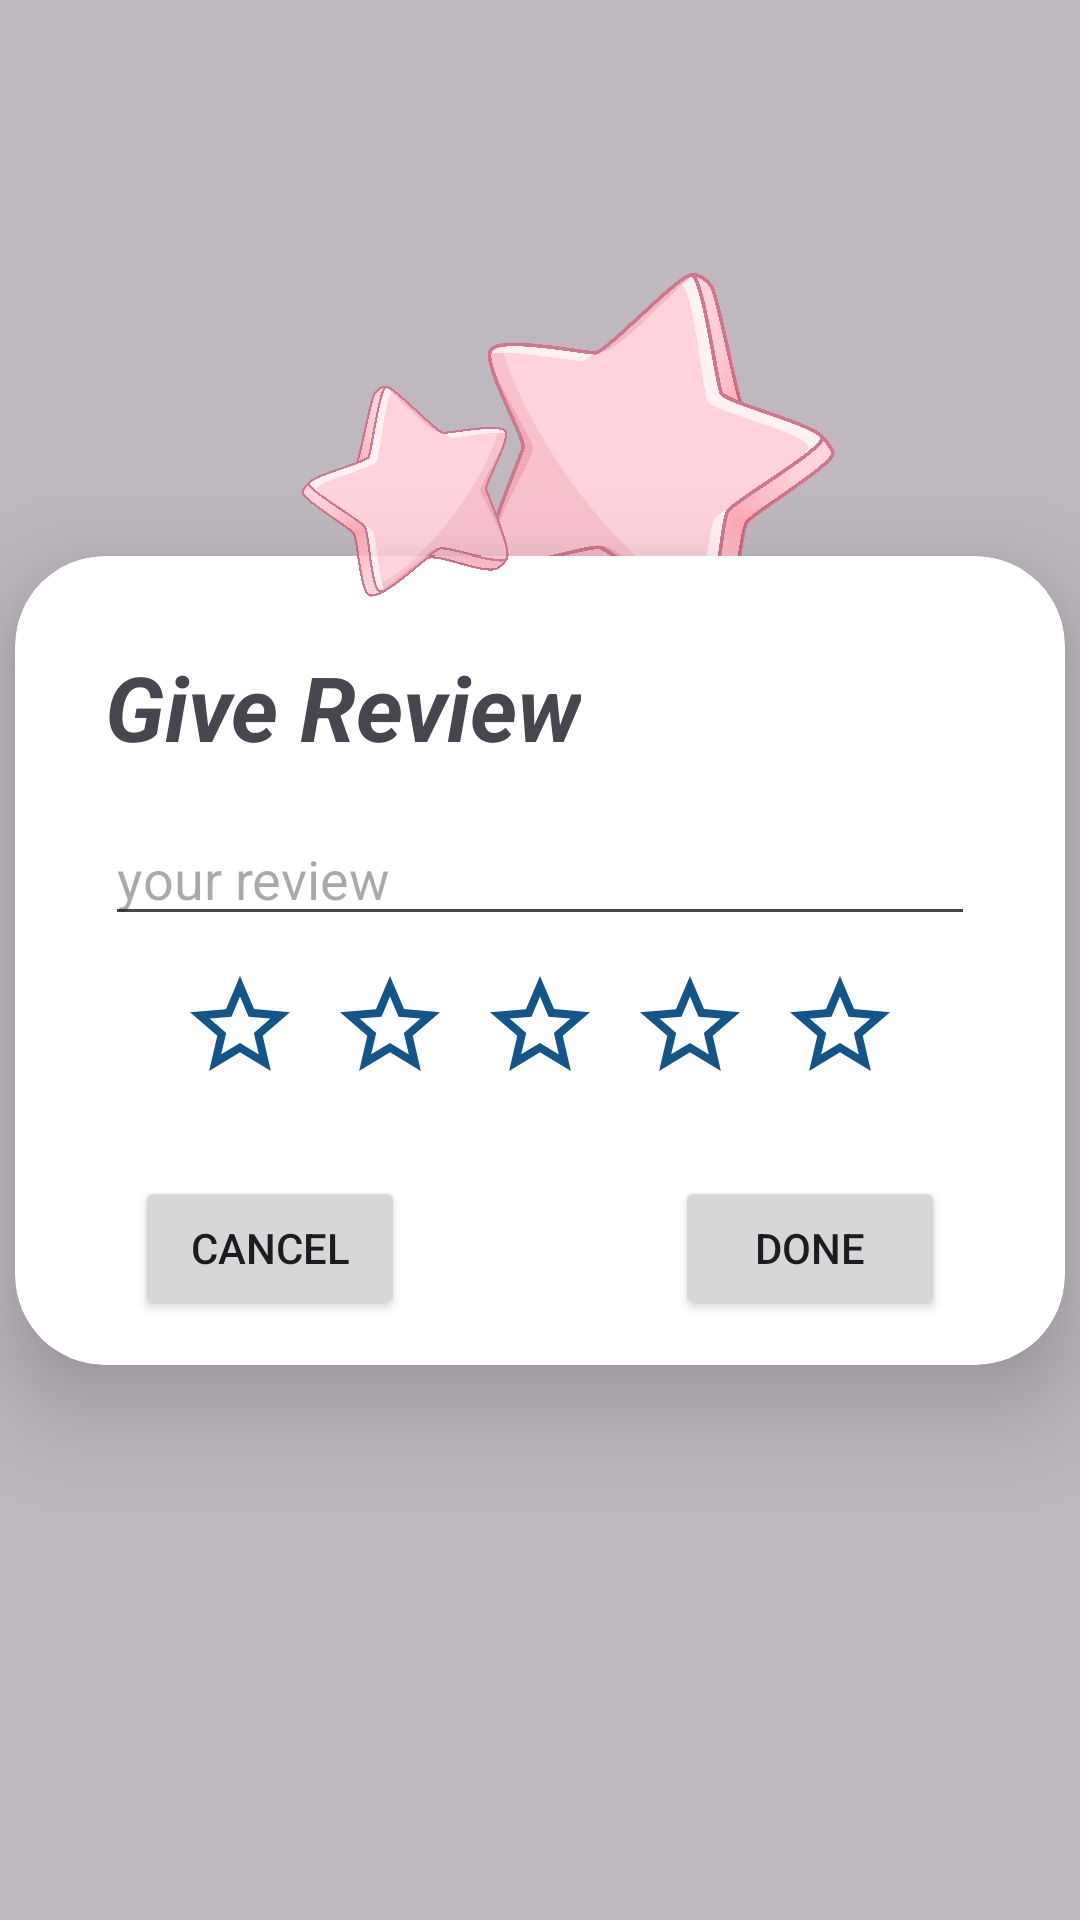

Icon click points for this 1080×1920 phone screenshot, format point (x, y):
star border: point (240, 1023), point (390, 1023), point (540, 1023), point (690, 1023), point (840, 1023)
